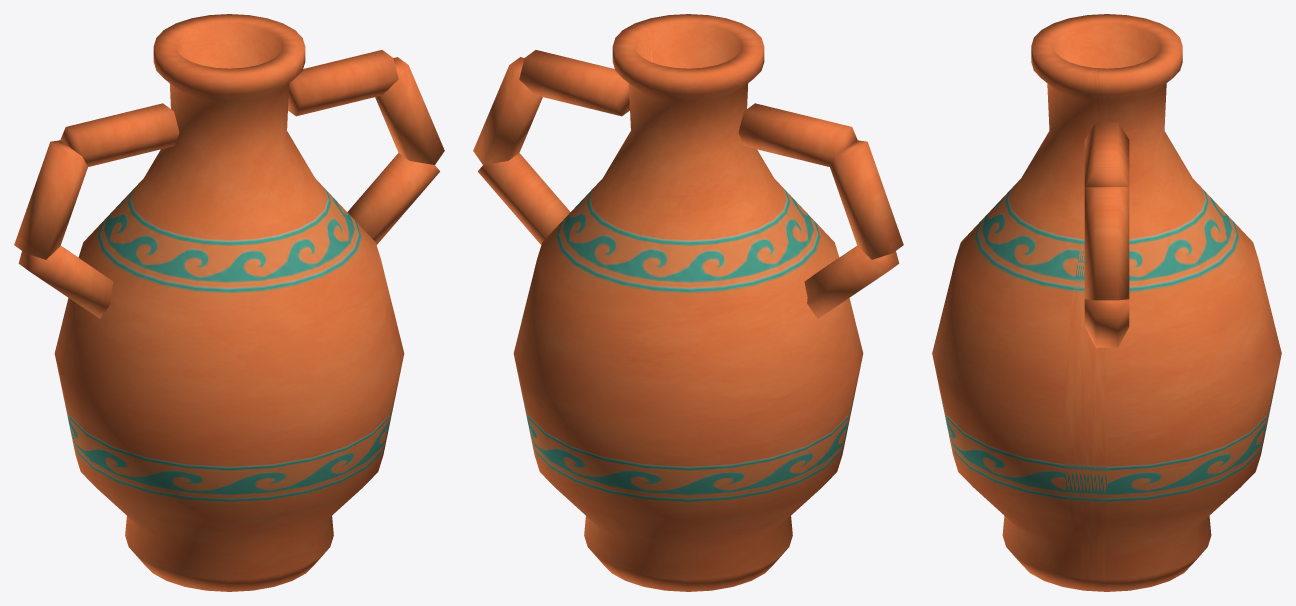
The model's file is sunken_amphora-Cq5LdR8m.glb.
The picture shows the model from 3 angles, left to right: view 1: azimuth 30°, elevation 25°; view 2: azimuth 150°, elevation 25°; view 3: azimuth 270°, elevation 25°; orthographic projection.
Visible parts, largest first — view 1: sunken_amphora_Batch_0; view 2: sunken_amphora_Batch_0; view 3: sunken_amphora_Batch_0.
Boxes of the visible parts, x1,y1,x2,y2 form: sunken_amphora_Batch_0: [14, 14, 444, 591]; sunken_amphora_Batch_0: [473, 14, 903, 591]; sunken_amphora_Batch_0: [932, 14, 1281, 591].
Size of the model in its own units: 1.86 by 2.15 by 1.34.
Materials: 1 (1 with a texture image).
